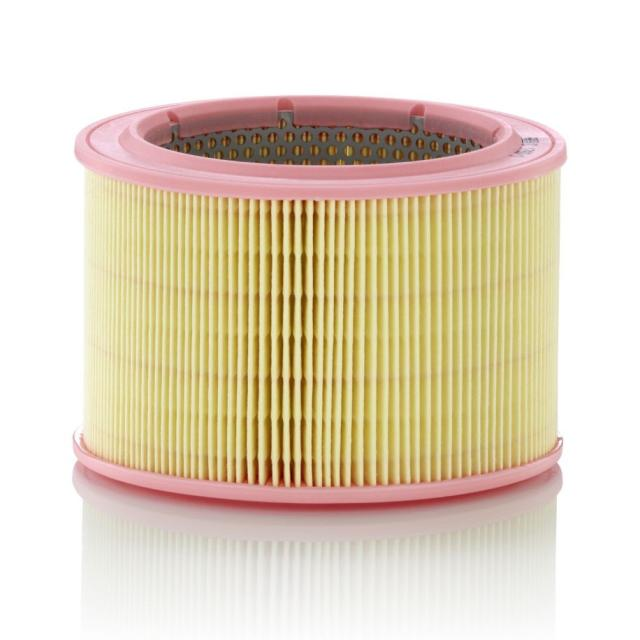air_filter: (65, 82, 581, 514)
